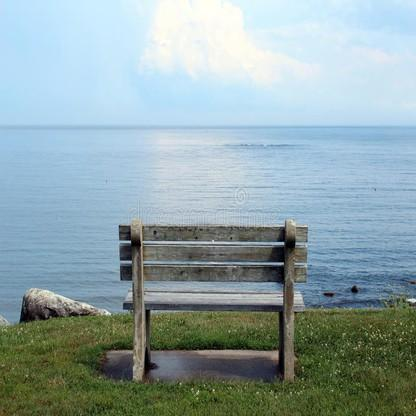obstacle: (95, 220, 336, 399)
